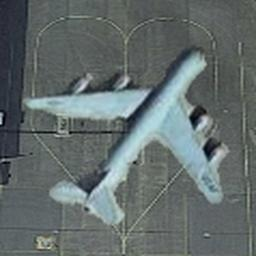Airplane: (22, 44, 230, 226)
